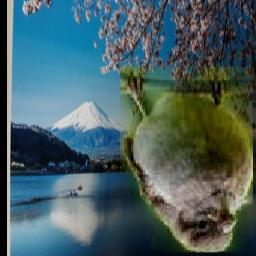Sparrow: (121, 68, 254, 254)
